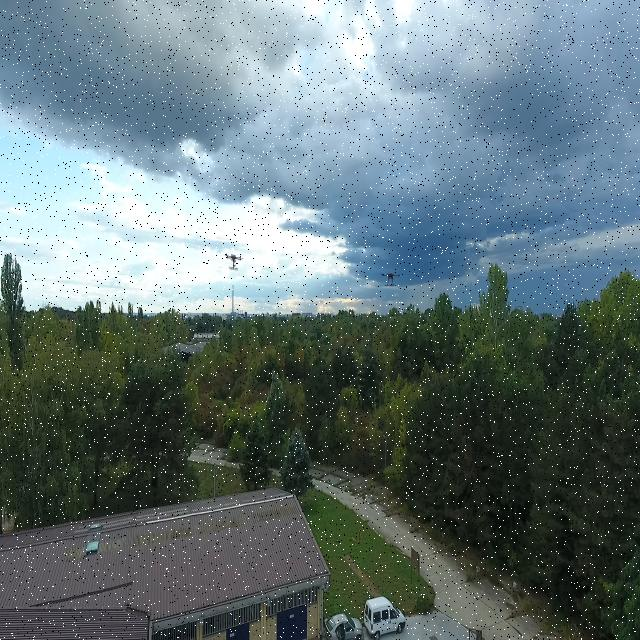UAV: (213, 246, 255, 281), (367, 267, 411, 294)
